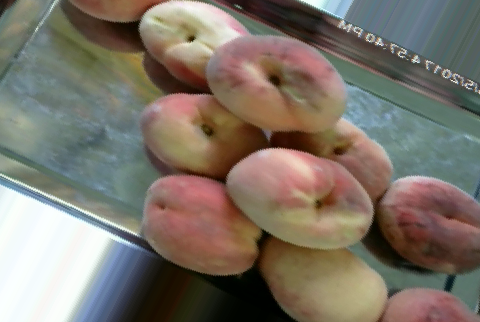Peach: (224, 147, 375, 251), (208, 34, 346, 132), (140, 172, 265, 277), (143, 88, 268, 179), (258, 239, 388, 321), (376, 175, 480, 272), (137, 0, 247, 88)
